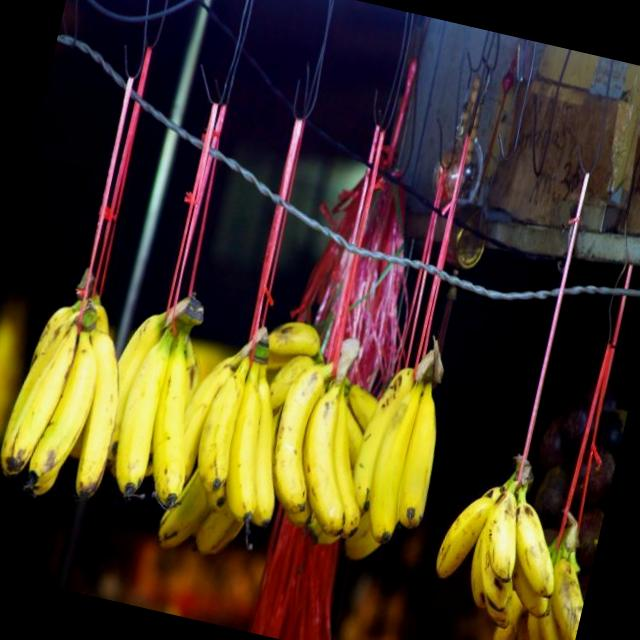Banana: (0, 266, 145, 512), (244, 332, 404, 552), (418, 438, 588, 640), (170, 312, 316, 530), (90, 280, 226, 512), (336, 336, 466, 559)
